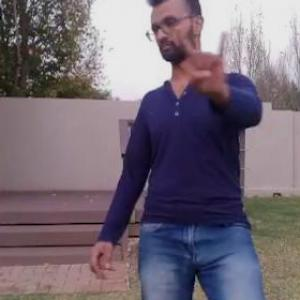takeoff-hand: (176, 23, 236, 112)
